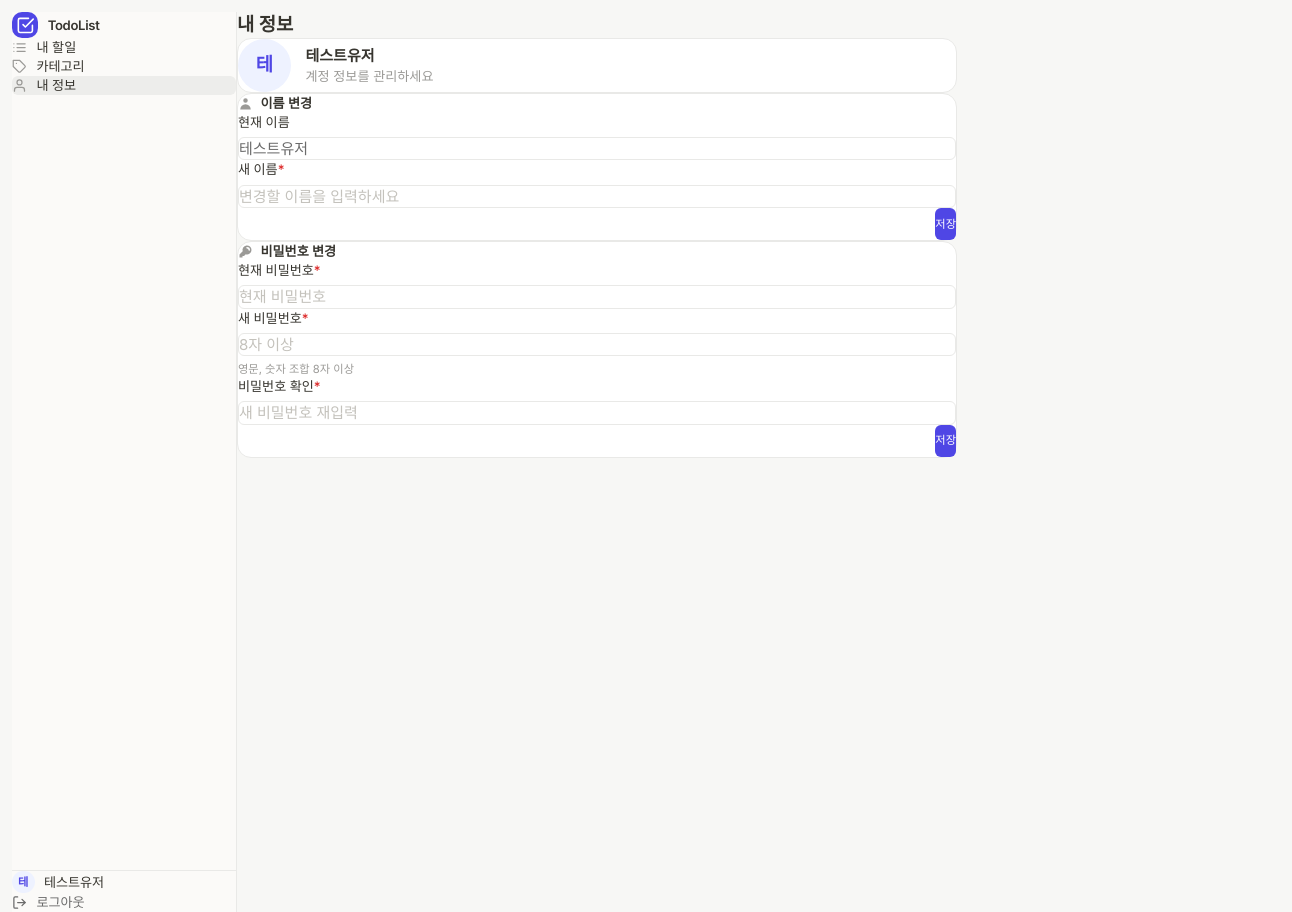
Test: MyProfilePage › 새 이름 입력 없이 제출 시 유효성 검사 에러가 표시된다
Click the 1st button "저장": (946, 224) [935,208,956,240]
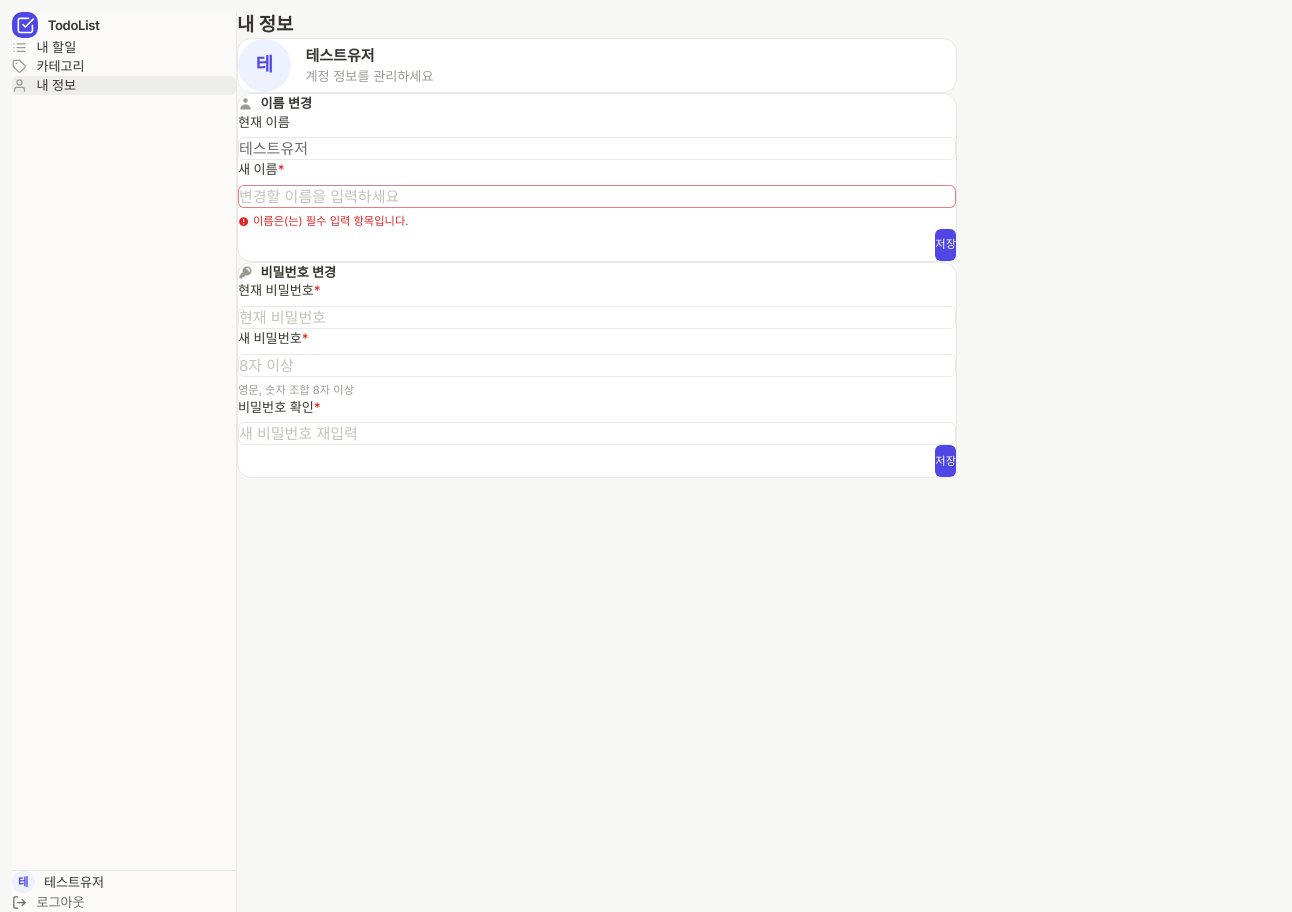
Result: the message "이름은(는) 필수 입력 항목입니다." is shown at [238,214,408,228]
